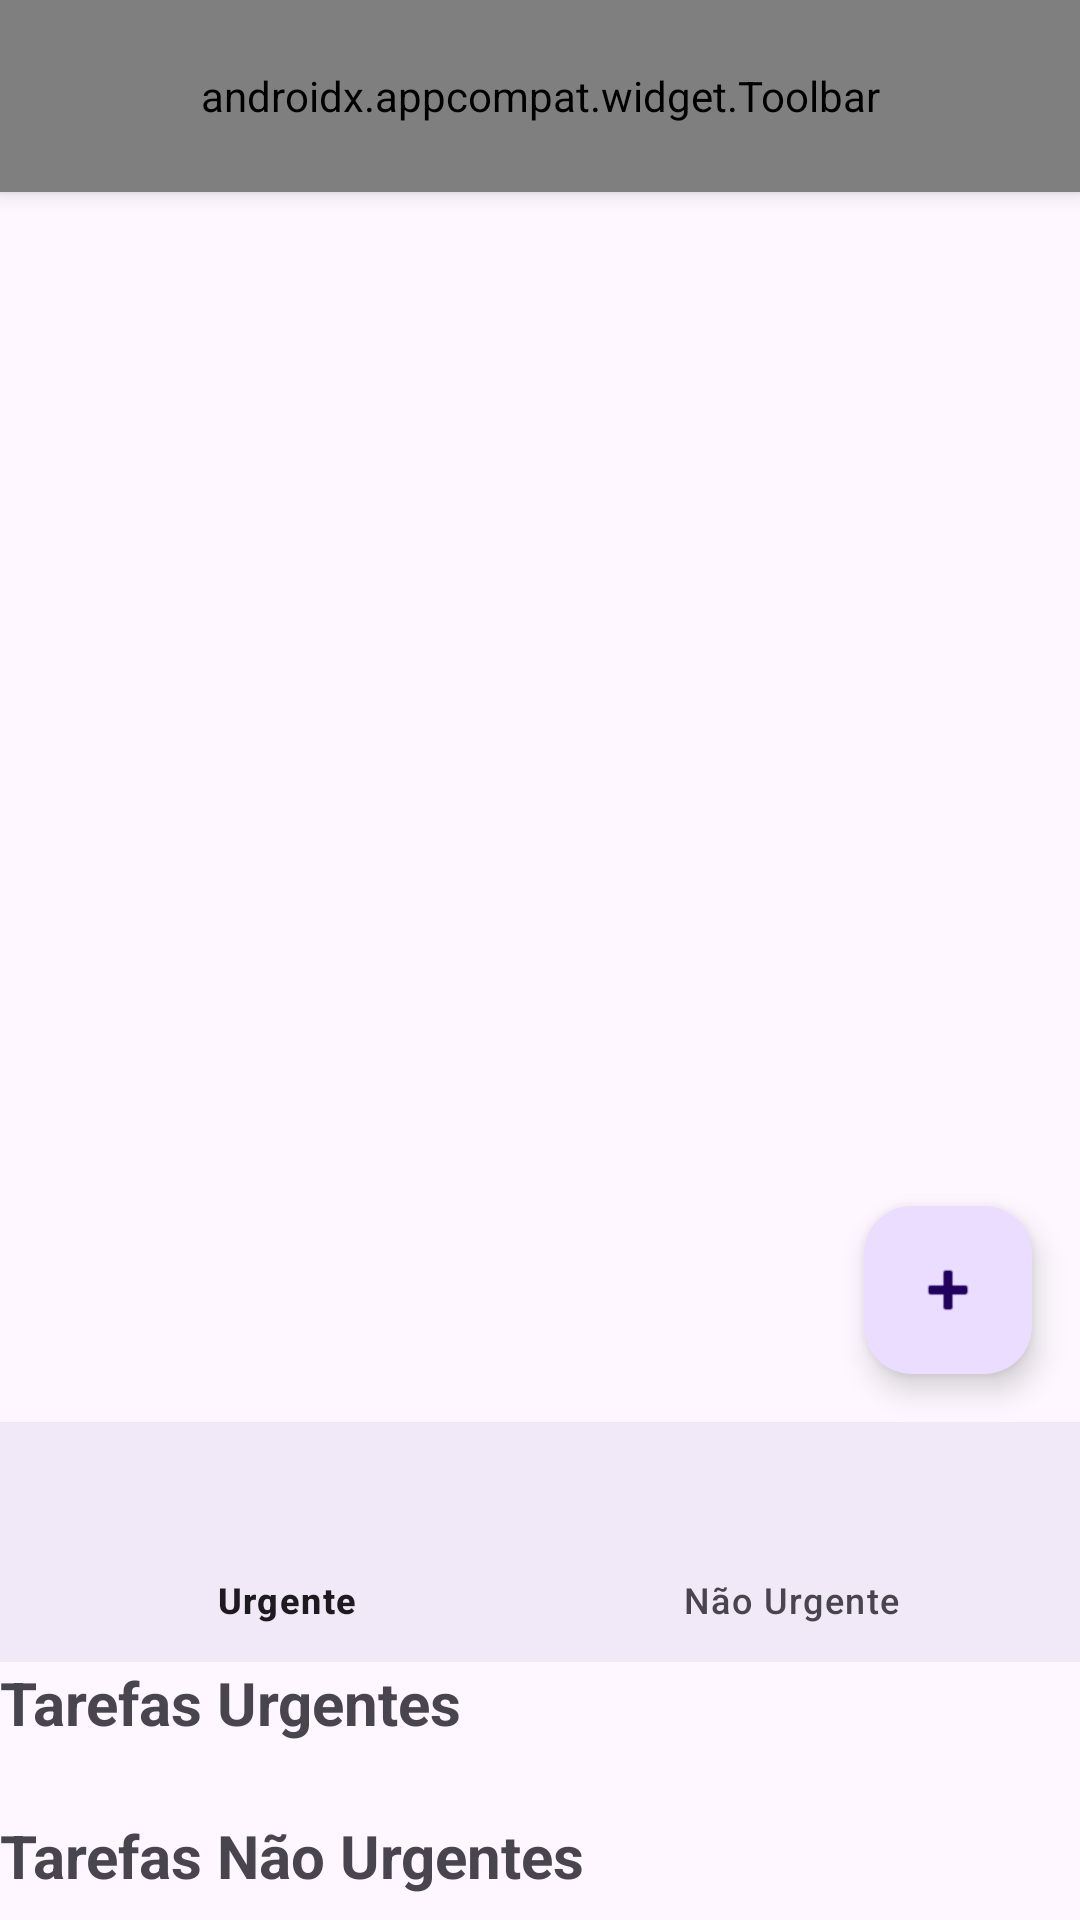

Icons on this 1080px×1920px Android screen, each with the point to tap as [x,y]:
add: [948,1290]
